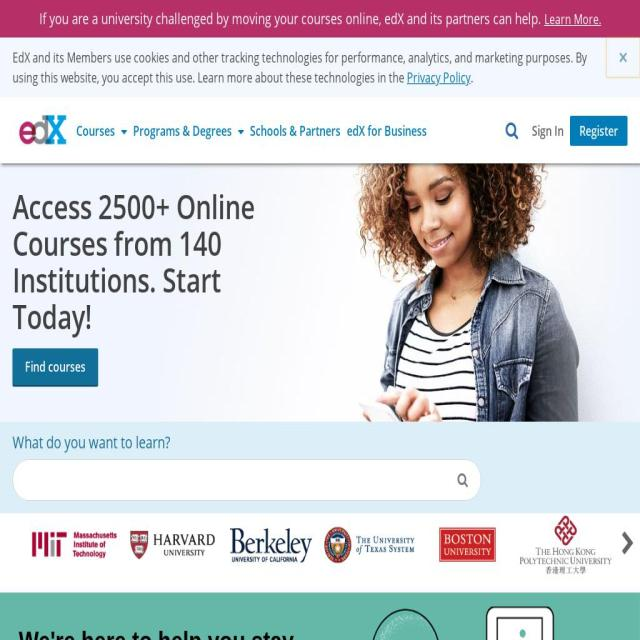button: (130, 98, 234, 164), (247, 98, 344, 164), (27, 513, 121, 577), (125, 513, 219, 577), (224, 513, 318, 577), (322, 513, 416, 577), (420, 513, 514, 577), (519, 513, 613, 577), (344, 98, 430, 164), (13, 348, 98, 385), (73, 98, 118, 164), (570, 116, 628, 146), (19, 114, 67, 147), (617, 513, 640, 577), (445, 460, 481, 500), (526, 116, 570, 146), (234, 98, 247, 164), (118, 98, 130, 164), (615, 529, 640, 558)
field: (12, 459, 482, 501)
heading: (12, 188, 262, 335), (12, 430, 628, 454), (19, 625, 320, 640), (19, 114, 67, 147)
image: (0, 163, 640, 422), (0, 591, 640, 640), (27, 513, 121, 577), (125, 513, 219, 577), (224, 513, 318, 577), (322, 513, 416, 577), (420, 513, 514, 577), (519, 513, 613, 577), (617, 513, 640, 577)
link: (407, 68, 471, 87), (544, 10, 601, 28), (506, 98, 518, 164)
text: (12, 48, 587, 87), (39, 8, 544, 28), (471, 68, 473, 87)
